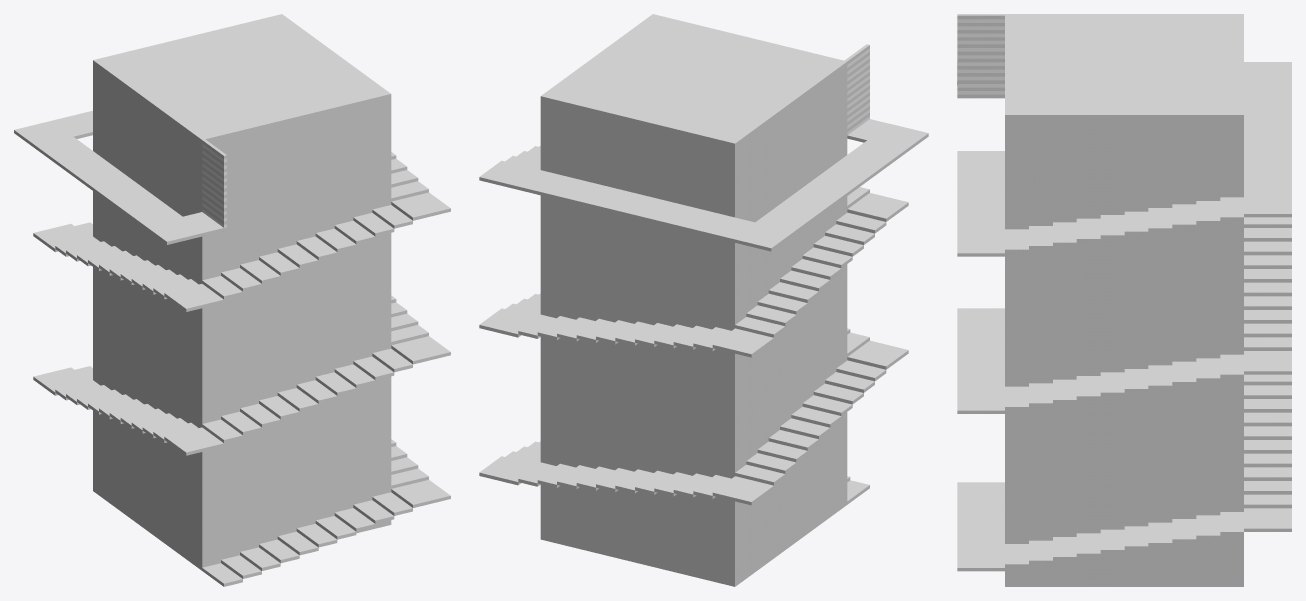
File: taijie2.FBX
3 views of the same model, side by side, from view 1: azimuth 30°, elevation 25°; view 2: azimuth 150°, elevation 25°; view 3: azimuth 270°, elevation 25° (orthographic). The views are drawn at different scales.
Parts seen in each view (by area): view 1: qiang2, taijie2; view 2: qiang2, taijie2; view 3: qiang2, taijie2.
Boxes of the visible parts, box(x1,y1,x2,y2) form: qiang2: box(93, 14, 391, 570); taijie2: box(14, 110, 450, 586); qiang2: box(540, 14, 847, 586); taijie2: box(479, 44, 928, 505); qiang2: box(1005, 14, 1243, 586); taijie2: box(957, 14, 1291, 571).
Size of the model in its own units: 3004 by 4356 by 2802.
